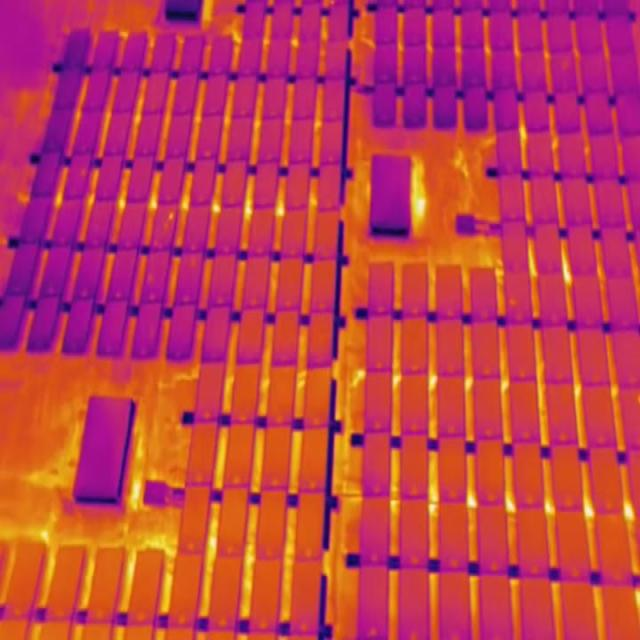Orange-Spots: (168, 212, 174, 220)
